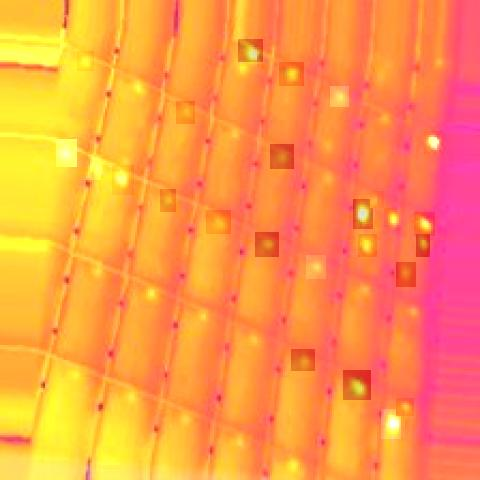fault: (343, 370, 371, 400), (139, 278, 163, 308), (124, 73, 148, 101), (112, 165, 134, 195), (353, 200, 373, 230), (279, 62, 304, 86), (206, 210, 231, 234), (255, 232, 279, 257), (381, 410, 401, 440), (270, 144, 294, 169), (56, 139, 77, 167), (238, 39, 263, 62), (291, 349, 315, 371), (414, 212, 435, 236), (396, 262, 416, 287), (306, 255, 326, 279), (424, 131, 444, 154), (358, 234, 377, 257), (176, 101, 195, 124), (330, 86, 349, 107), (160, 189, 176, 212), (77, 51, 94, 71), (396, 398, 414, 416), (416, 234, 430, 257), (90, 154, 101, 180), (384, 208, 398, 227), (370, 191, 384, 208)
